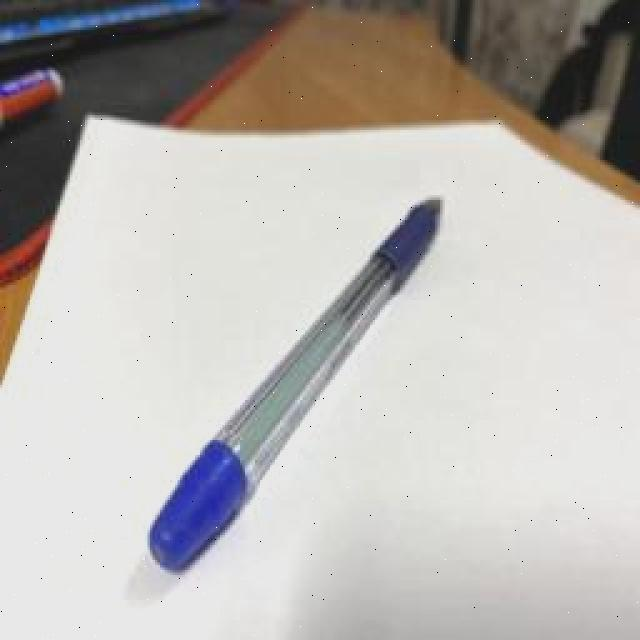pen: (148, 198, 442, 580)
